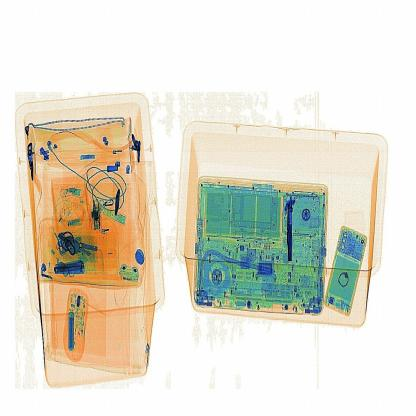pliers: (285, 190, 306, 270)
